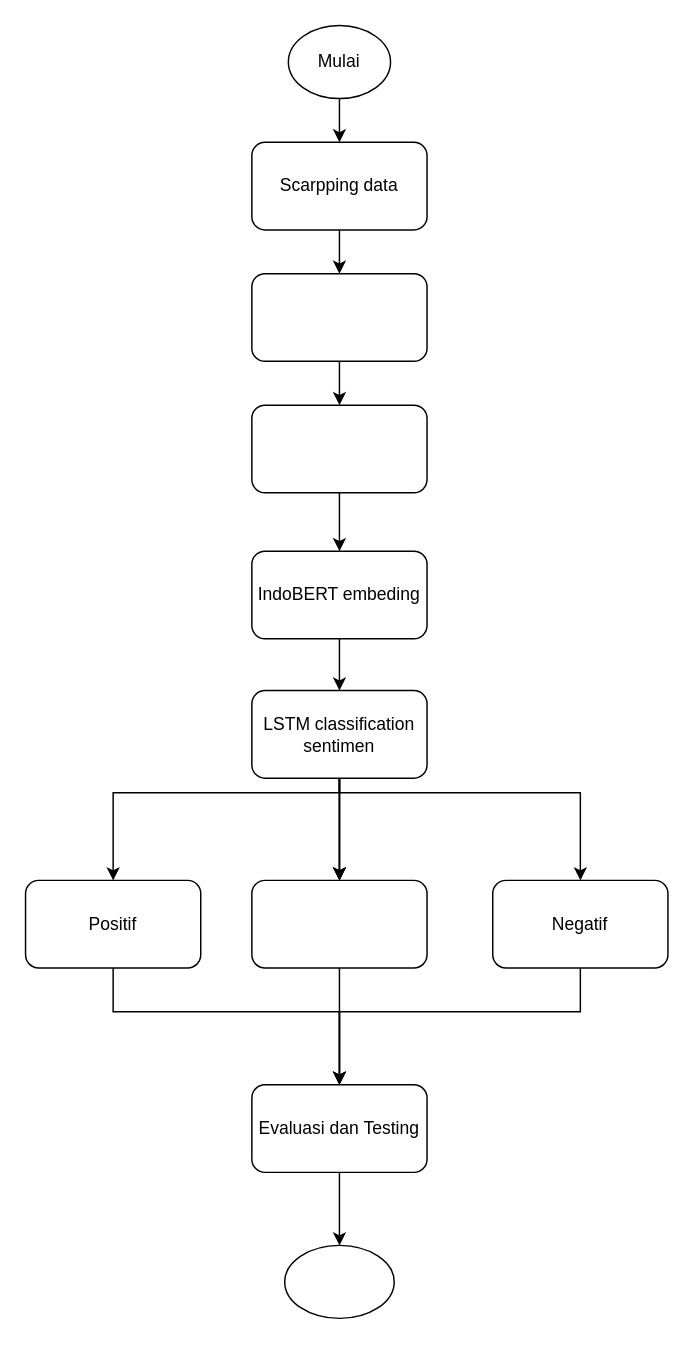
Some shapes in this 694 by 1345 pixel diagram are drawn without their labels. Here are the shapes that lost their labels. From the top down, the centre of each, then its label:
At point (338, 316): "labeling".
At point (338, 448): "Pra-prosesing".
At point (338, 923): "Netral".
At point (338, 1281): "Selesai".
